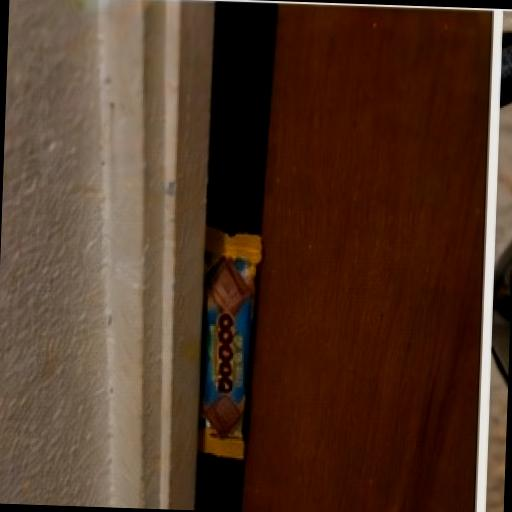biscuit-detection: (176, 211, 310, 510)
